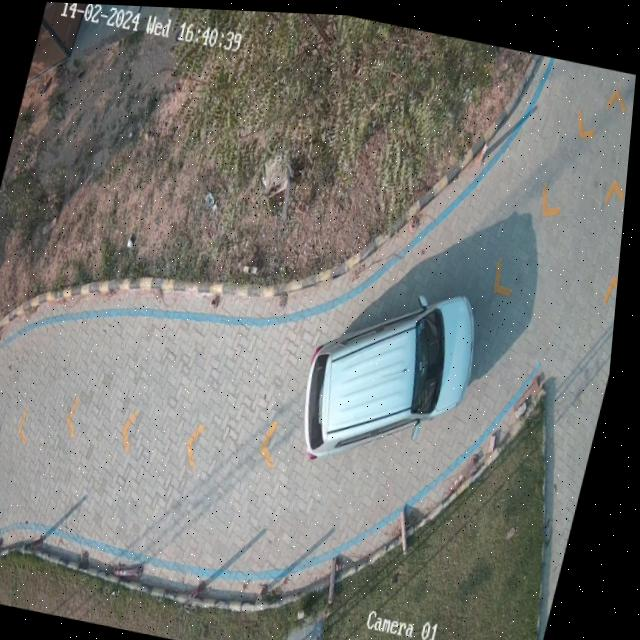car: (312, 291, 483, 459)
